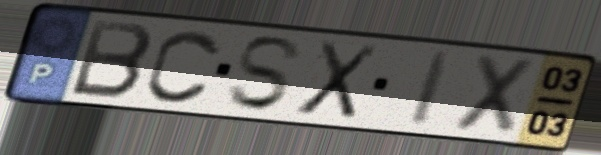B: (66, 17, 156, 102)
C: (143, 27, 226, 106)
I: (405, 49, 458, 131)
S: (224, 34, 307, 114)
X: (447, 51, 542, 139), (291, 39, 383, 123)
